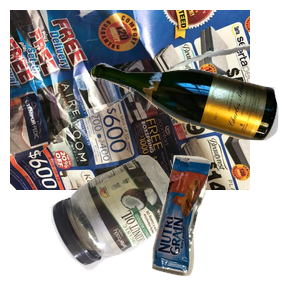glass: (88, 60, 300, 193)
paper: (10, 10, 250, 190)
plastic: (48, 152, 228, 300)
trash: (149, 152, 300, 300)
